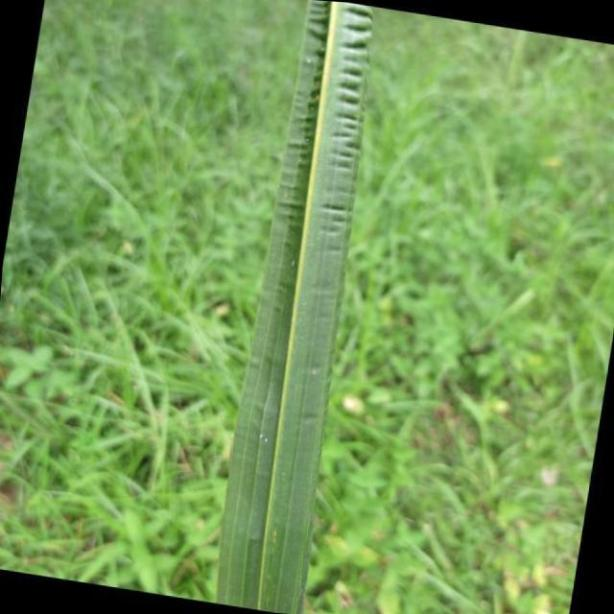Boron: (220, 0, 375, 614)
